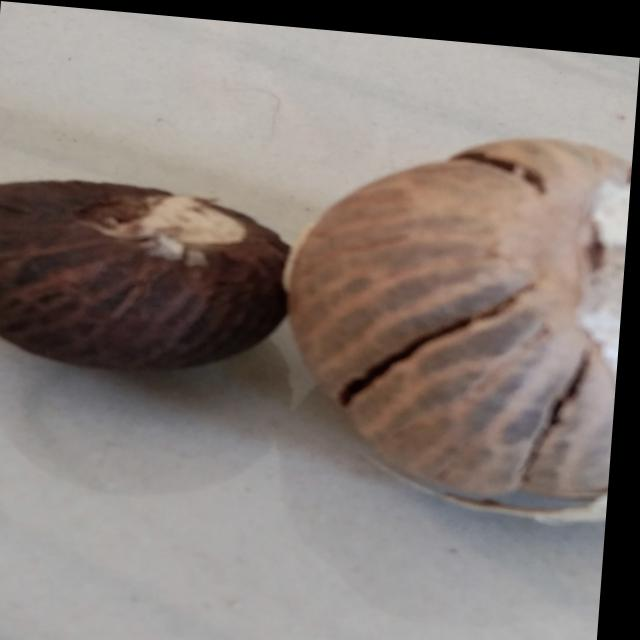karigot: (0, 152, 297, 390)
phatora: (282, 95, 636, 521)
